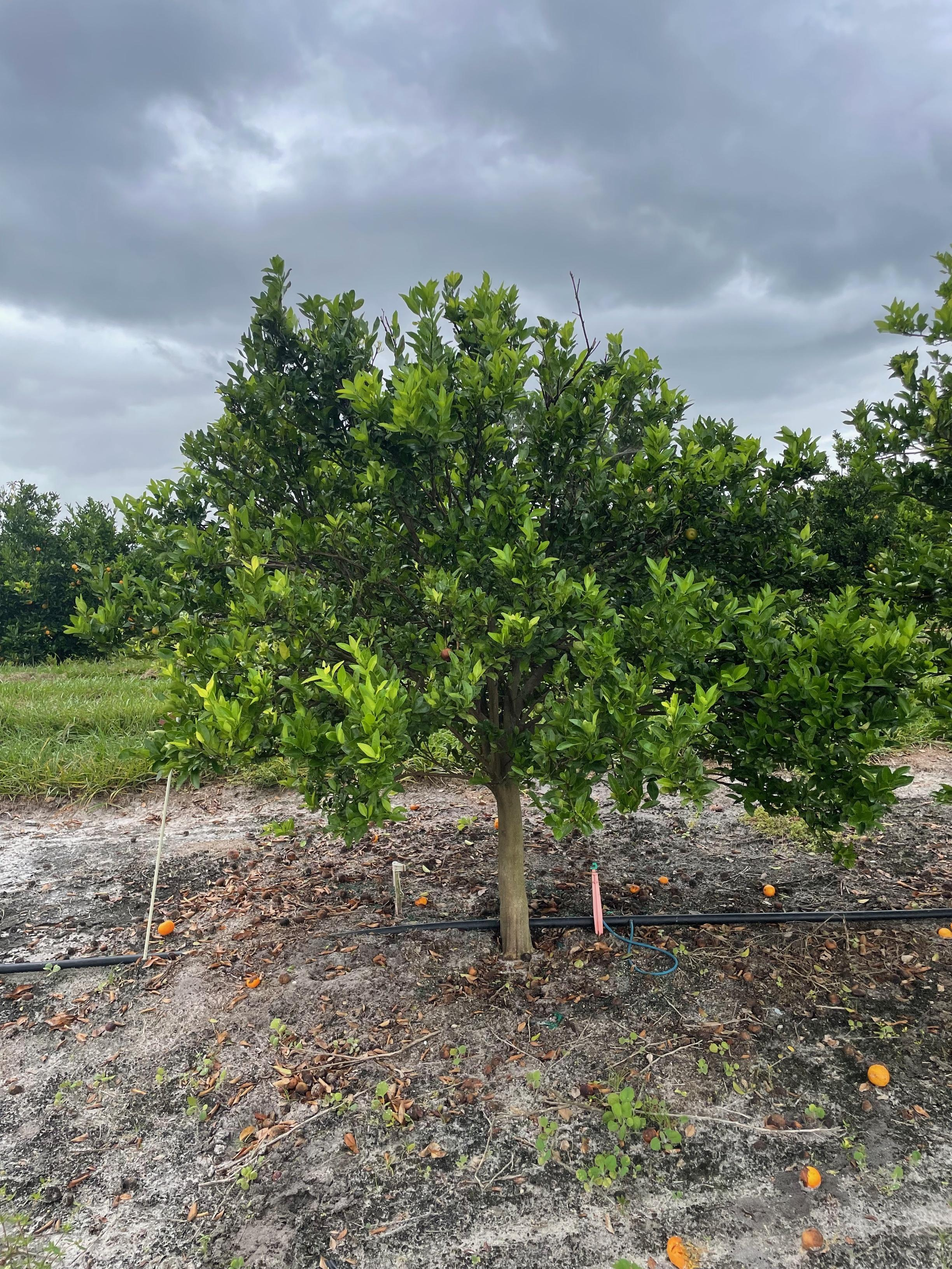fruit_on_ground: (683, 526, 699, 542), (439, 647, 455, 663), (74, 567, 80, 574), (71, 563, 77, 569), (35, 546, 41, 551), (869, 563, 874, 569)
fruit_on_tree: (666, 1236, 699, 1267), (798, 1225, 828, 1255), (797, 1163, 824, 1192), (865, 1061, 892, 1088), (639, 1125, 662, 1148), (763, 1111, 788, 1131), (155, 917, 177, 937), (760, 881, 778, 898), (412, 892, 430, 908), (580, 1080, 597, 1096), (935, 924, 952, 940), (823, 936, 840, 951), (657, 873, 670, 885), (629, 884, 641, 894), (409, 803, 420, 811)
